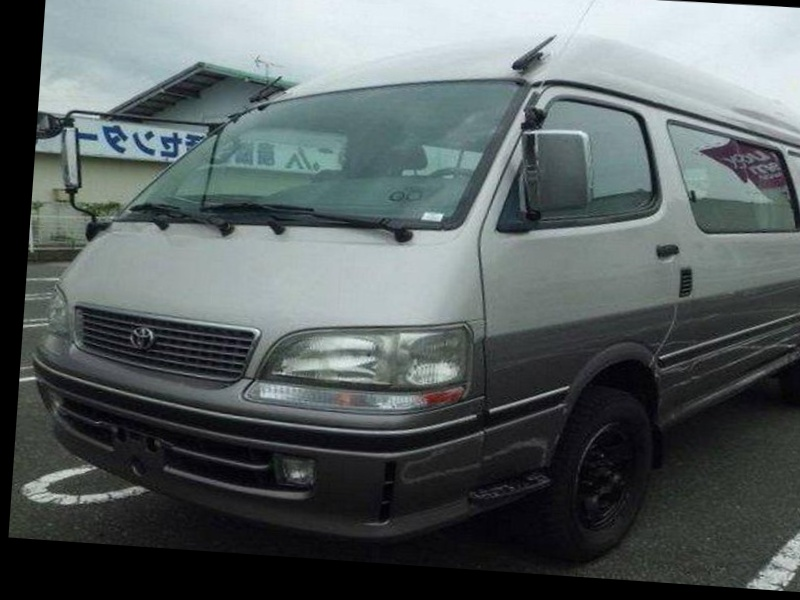van: (10, 1, 800, 579)
